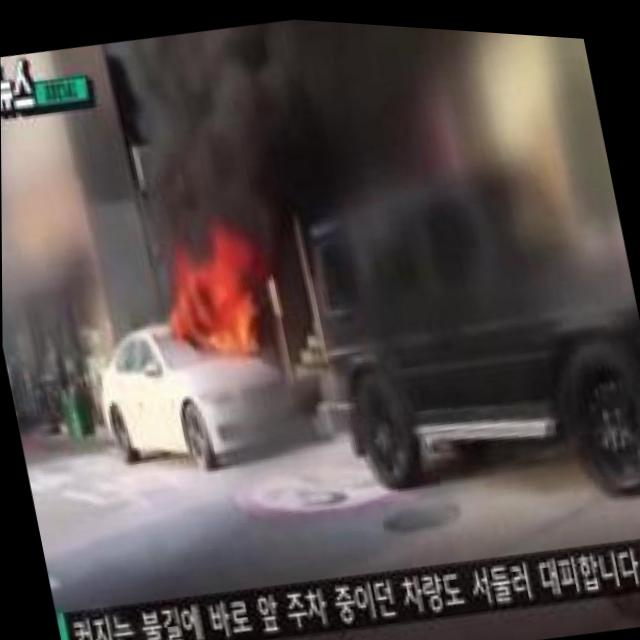Fire: (167, 244, 260, 363)
